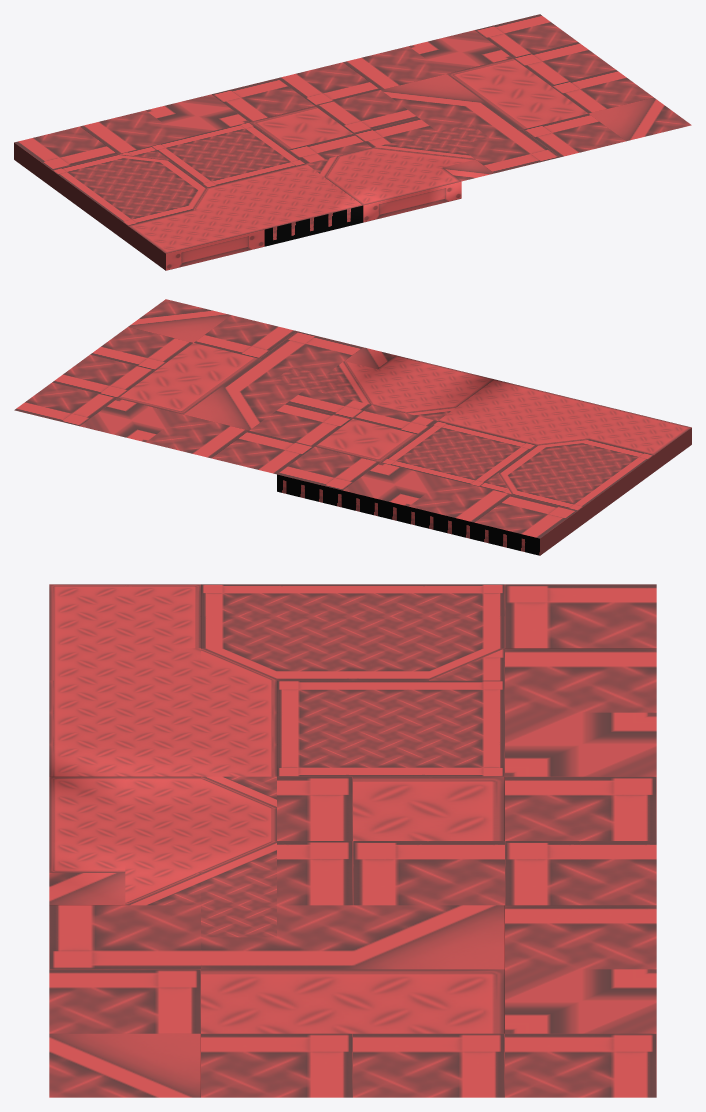
Rendered from SM_RoadModule_D1.fbx.
The picture shows the model from 3 angles, top to bottom: view 1: azimuth 30°, elevation 25°; view 2: azimuth 150°, elevation 25°; view 3: azimuth 270°, elevation 25°; orthographic projection. The views are drawn at different scales.
Visible parts, largest first — view 1: Road; view 2: Road; view 3: Road.
Boxes of the visible parts, bbox=[...] form: Road: bbox=[14, 14, 691, 270]; Road: bbox=[14, 299, 691, 555]; Road: bbox=[49, 584, 656, 1097].
Size of the model in its own units: 1600 by 50 by 800.
